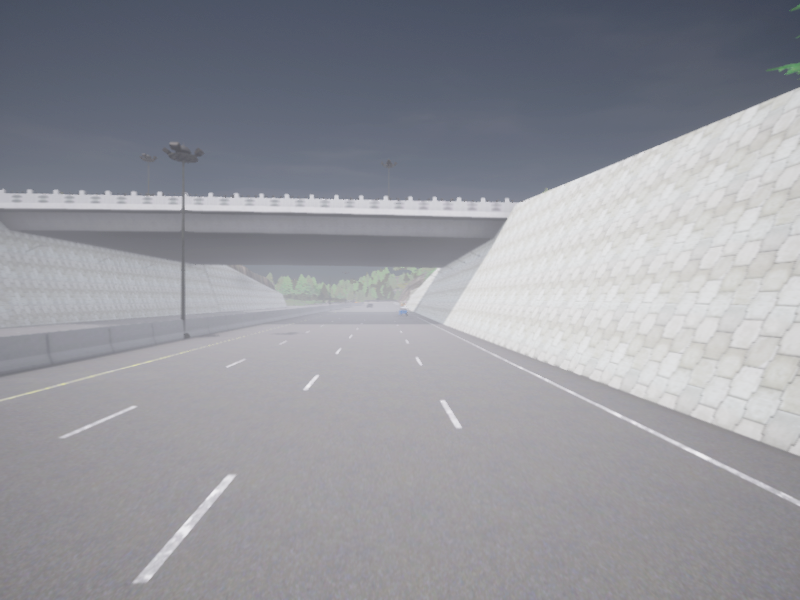vehicle: (398, 307, 407, 315), (367, 303, 372, 307)
